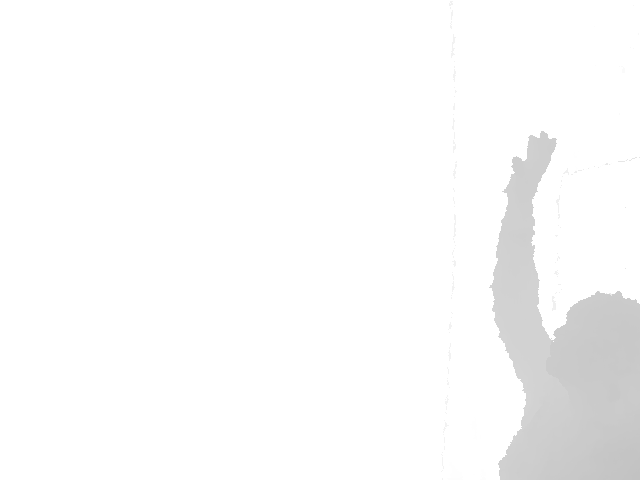hand: (500, 129, 558, 203)
head: (547, 289, 640, 394)
person: (490, 129, 640, 480)
